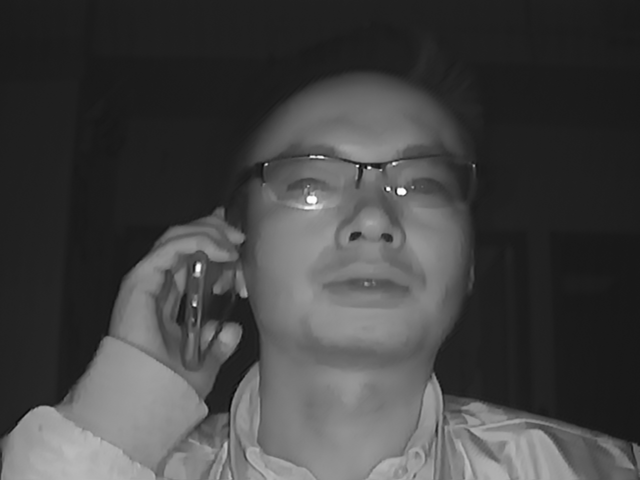hand: (111, 212, 249, 375)
